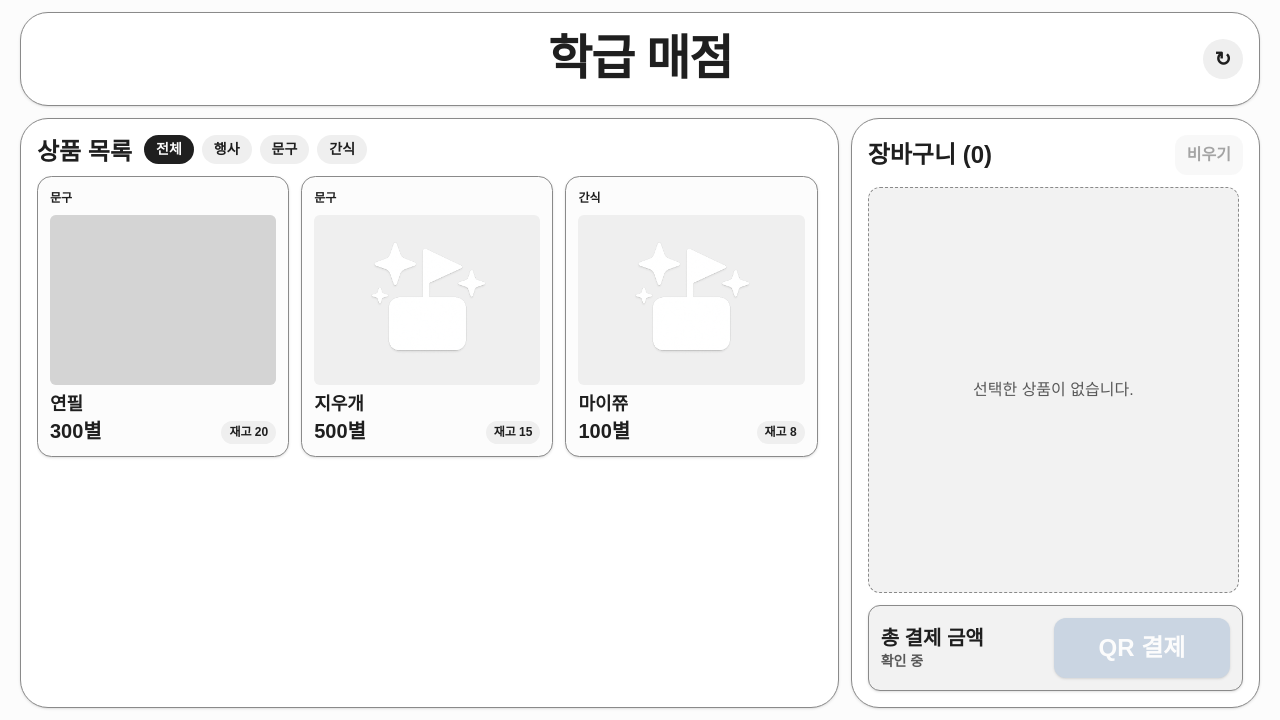
Test: KioskApp › uses the calibrated clock for promotion expiry and shows a promotion-filter empty state
Step 1. Click the button "행사" → (227, 150), box [202, 135, 252, 164]
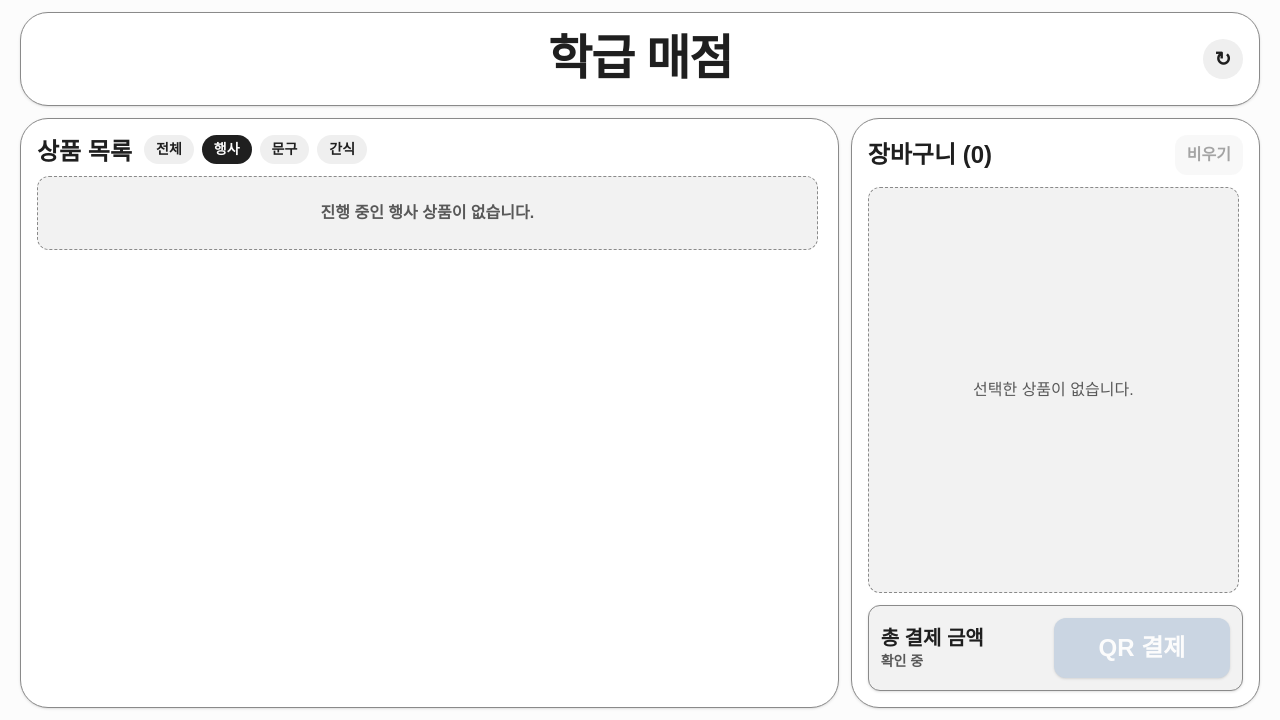
Check: the text "진행 중인 행사 상품이 없습니다." is shown, box [37, 176, 818, 250]
Check: the button "연필" is gone
